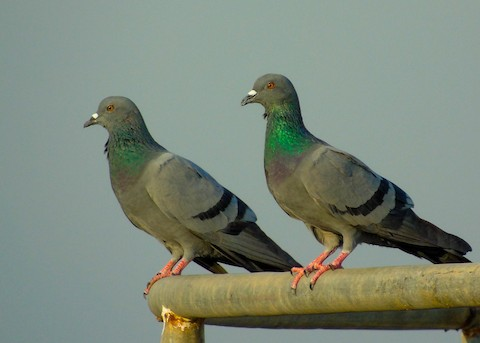pigeon: (236, 71, 477, 301), (81, 92, 308, 298)
